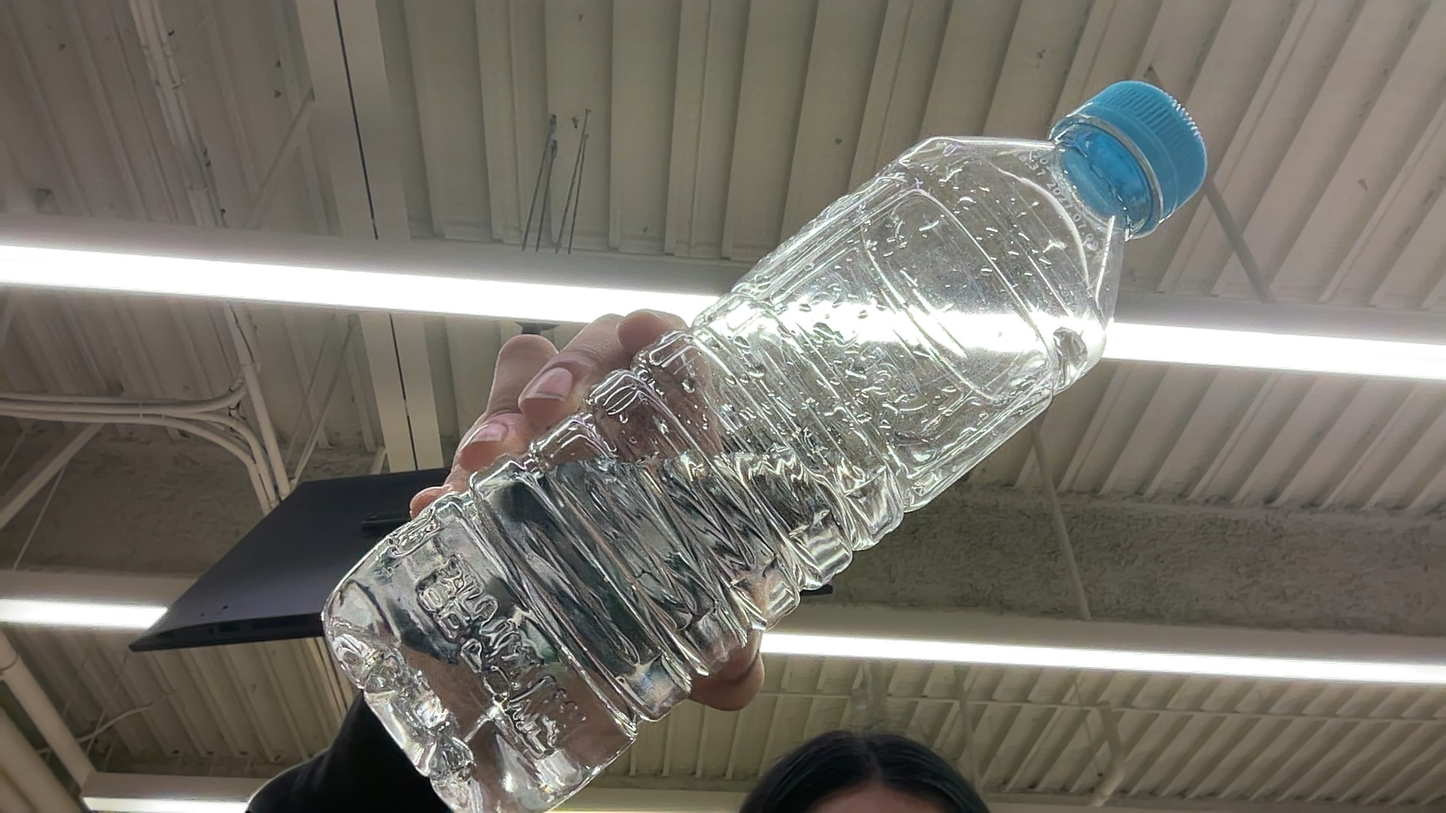Plastic: (1055, 78, 1204, 245)
